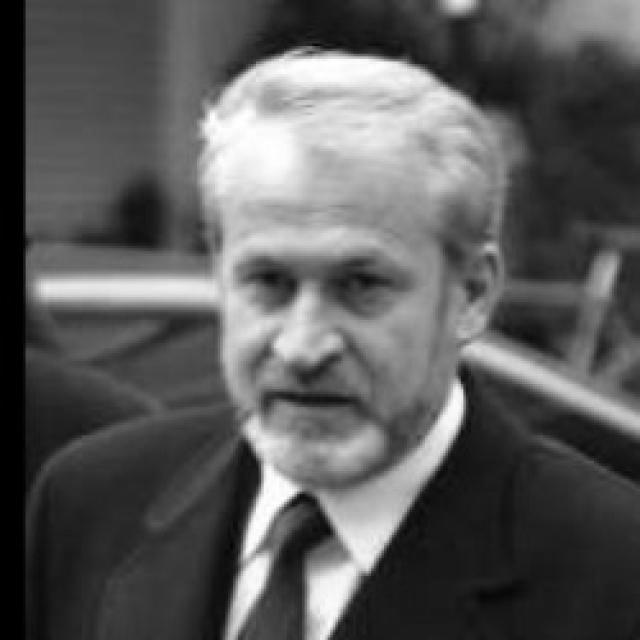real: (214, 122, 510, 482), (244, 232, 406, 315)
